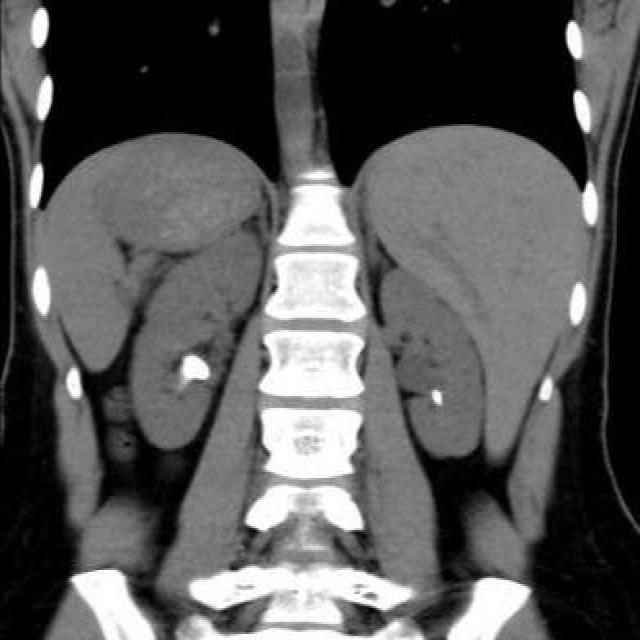Tas_Var: (174, 353, 211, 385), (424, 387, 448, 407)
